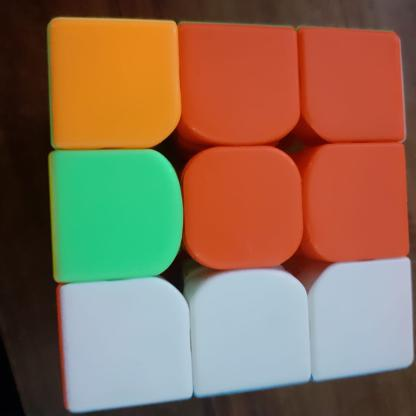cube: (38, 12, 416, 415)
